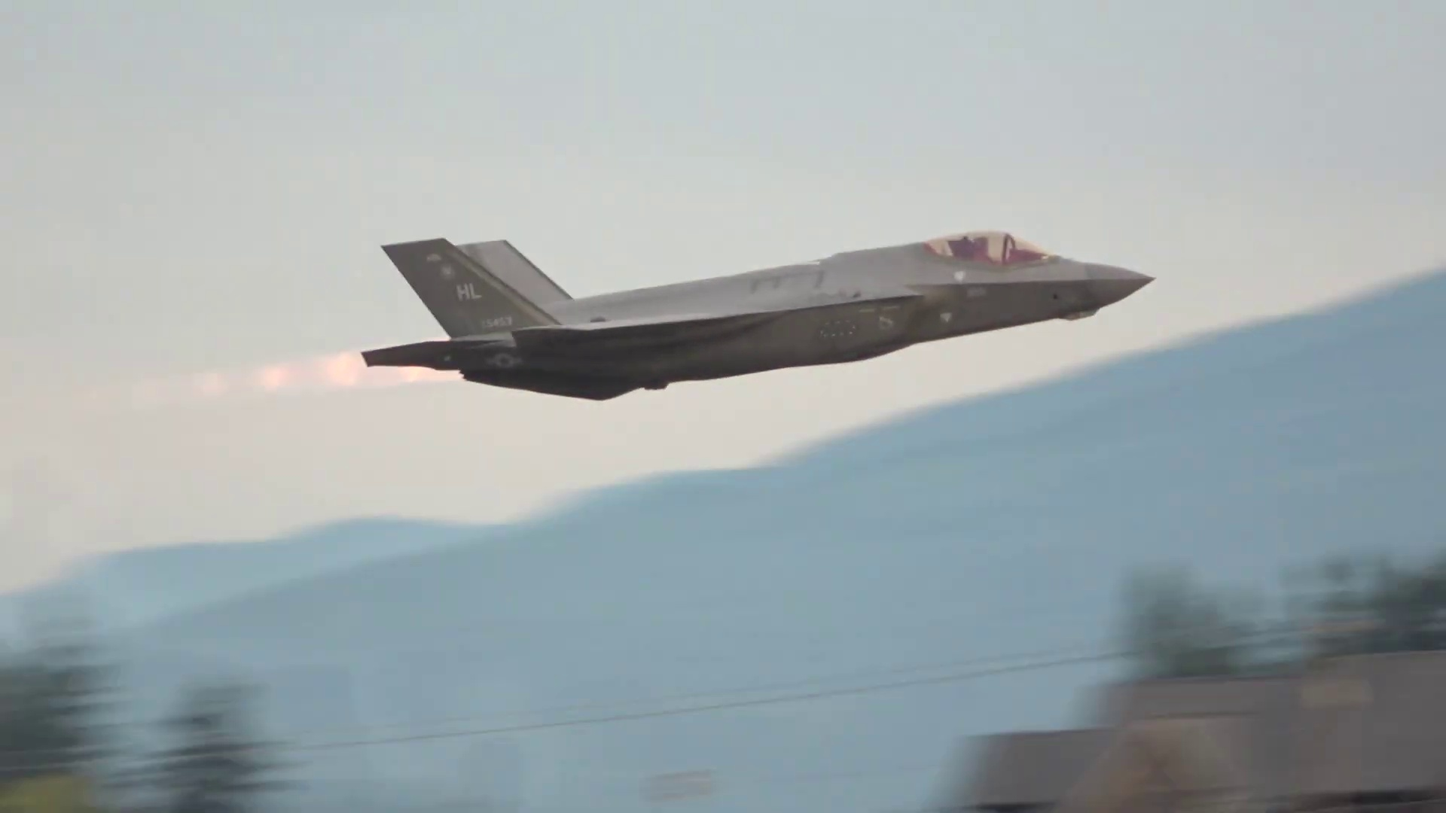F35: (359, 223, 1167, 409)
